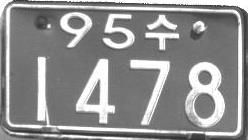1: (25, 57, 60, 121)
4: (75, 58, 115, 123)
5: (102, 13, 136, 50)
7: (129, 58, 171, 126)
8: (183, 61, 226, 128)
9: (59, 11, 92, 48)
수: (145, 14, 179, 51)
